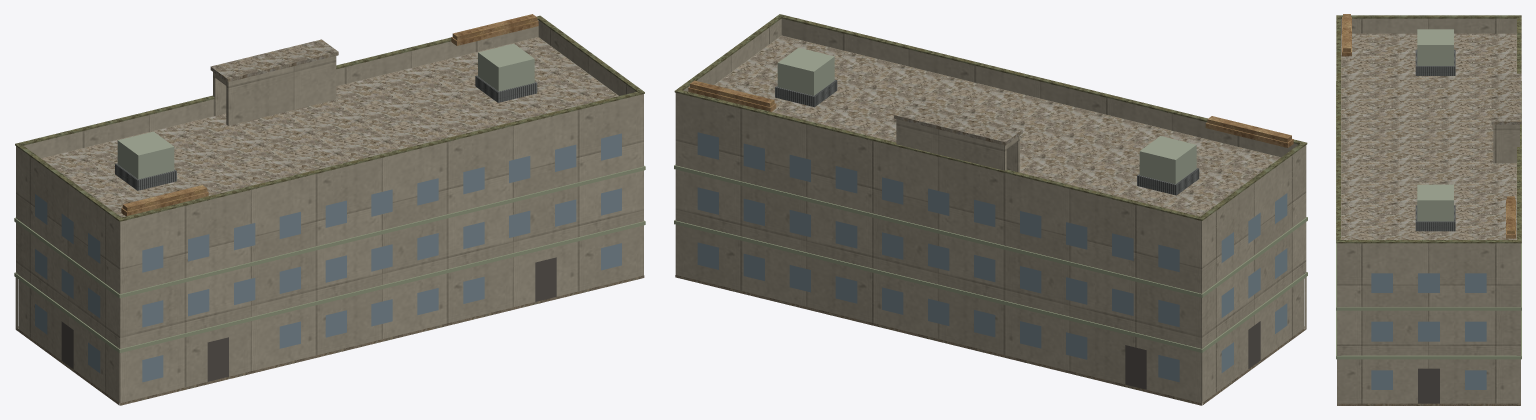
File: mb-barracks-3s.zfix-v20.lod1.glb
The picture shows the model from 3 angles, left to right: view 1: azimuth 30°, elevation 25°; view 2: azimuth 150°, elevation 25°; view 3: azimuth 270°, elevation 25°; orthographic projection. The views are drawn at different scales.
Parts seen in each view (by area): view 1: mb-barracks-3s; view 2: mb-barracks-3s; view 3: mb-barracks-3s.
Boxes of the visible parts, box(x1,y1,x2,y2) form: mb-barracks-3s: box(14, 14, 645, 405); mb-barracks-3s: box(674, 14, 1307, 405); mb-barracks-3s: box(1336, 14, 1521, 405).
Bounding box in the file's own units: 32.12 × 12.56 × 11.12.
Materials: 5 (4 with a texture image).
